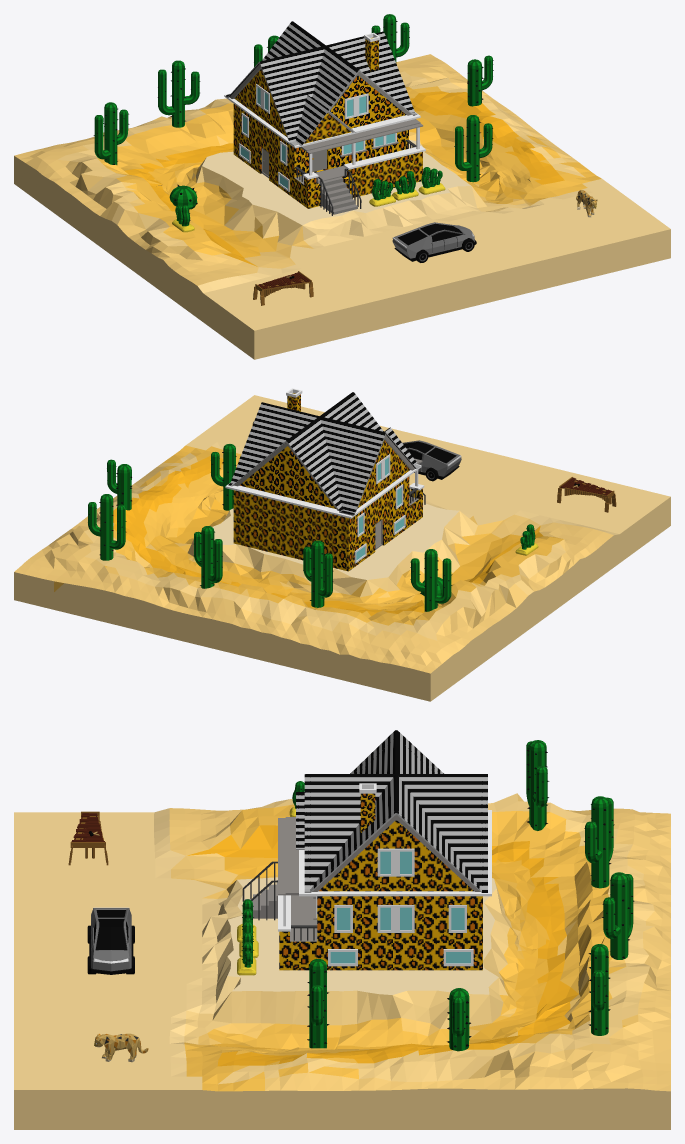
3 views of the same model, one above another, from view 1: azimuth 30°, elevation 25°; view 2: azimuth 150°, elevation 25°; view 3: azimuth 270°, elevation 25° (orthographic). The views are drawn at different scales.
Parts seen in each view (by area): view 1: Cube.001, Cube.637, VEHICLES_CYBERTRUCK, Cylinder.037, Cylinder.044, Cylinder.045, Cylinder.038, OBJRANDOM_MARIMBA, Cylinder.042, Cylinder.039, Cylinder.041, Sphere.023 (+1 smaller); view 2: Cube.001, Cube.637, Cylinder.042, Cylinder.045, Cylinder.044, VEHICLES_CYBERTRUCK, Cylinder.043, Cylinder.037, Cylinder.038, OBJRANDOM_MARIMBA; view 3: Cube.001, Cube.637, VEHICLES_CYBERTRUCK, Cylinder.043, Cylinder.044, Cylinder.045, Cylinder.042, Cylinder.037, Cylinder.038, OBJRANDOM_MARIMBA, ANIMAL_JAGUAR, Cylinder.041.
Part boxes in pixels (x1,y1,x2,y2): Cube.001: (14,54,670,359); Cube.637: (224,21,425,215); VEHICLES_CYBERTRUCK: (392,222,476,262); Cylinder.037: (454,115,493,182); Cylinder.044: (157,60,200,127); Cylinder.045: (93,102,129,164); Cylinder.038: (467,55,493,106); OBJRANDOM_MARIMBA: (253,271,313,305); Cylinder.042: (371,14,409,62); Cylinder.039: (369,179,395,206); Cylinder.041: (418,167,445,194); Sphere.023: (169,184,197,209); Cube.001: (14,395,670,701); Cube.637: (225,388,425,571); Cylinder.042: (88,494,126,560); Cylinder.045: (410,549,452,611); Cylinder.044: (303,540,333,607); VEHICLES_CYBERTRUCK: (402,440,461,481); Cylinder.043: (193,526,222,588); Cylinder.037: (211,444,240,510); Cylinder.038: (107,459,131,510); OBJRANDOM_MARIMBA: (557,477,616,512); Cube.001: (14,793,670,1129); Cube.637: (242,730,491,970); VEHICLES_CYBERTRUCK: (87,907,134,974); Cylinder.043: (602,872,634,959); Cylinder.044: (584,796,614,888); Cylinder.045: (526,740,549,830); Cylinder.042: (588,944,610,1035); Cylinder.037: (307,959,329,1048); Cylinder.038: (447,988,471,1051); OBJRANDOM_MARIMBA: (68,811,108,865); ANIMAL_JAGUAR: (94,1033,148,1062); Cylinder.041: (237,932,256,975).
Size of the model in its own units: 4002 by 1643 by 4001.
Materials: 32 (3 with a texture image).
